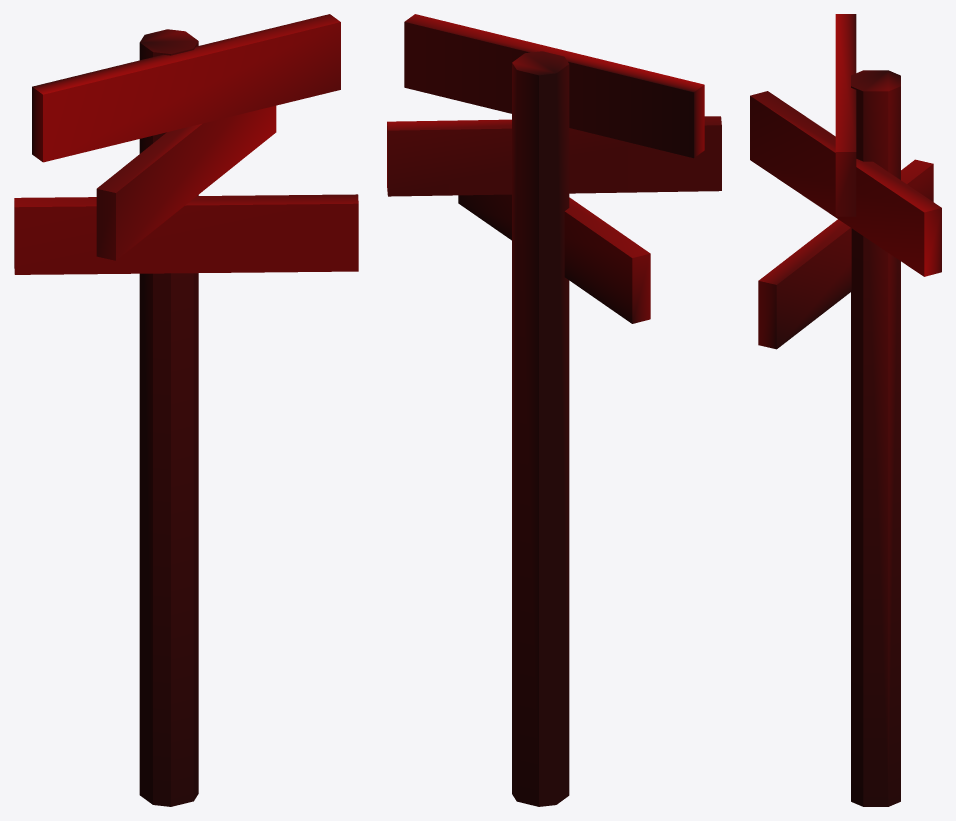
The model's file is Sign02.fbx.
The picture shows the model from 3 angles, left to right: view 1: azimuth 30°, elevation 25°; view 2: azimuth 150°, elevation 25°; view 3: azimuth 270°, elevation 25°; orthographic projection. The views are drawn at different scales.
Visible parts, largest first — view 1: Model_SighMultiple; view 2: Model_SighMultiple; view 3: Model_SighMultiple.
Part boxes in pixels (bbox=[...]): Model_SighMultiple: bbox=[14, 14, 358, 806]; Model_SighMultiple: bbox=[387, 14, 721, 806]; Model_SighMultiple: bbox=[750, 14, 941, 806].
Bounding box in the file's own units: 56.63 × 137 × 33.25.
